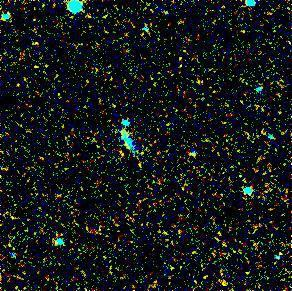star: (207, 269, 237, 291)
